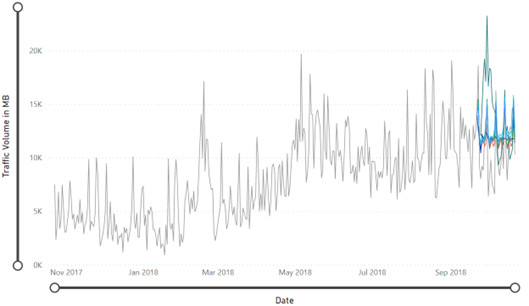

What the dashboard file says about the page in this screenshot:
{"tool":"powerbi","page":{"name":"Figure 9 and 10. All Models","canvas":[1280,720],"ordinal":4},"visuals":[{"type":"lineChart","fields":{"Category":["All Models.Date"],"Y":["Sum(All Models.Traffic Volume in MB)"],"Series":["All Models.Label"]},"box":[16,0,1264,720],"z":0}]}

Visuals, with their boxes in screenshot pixels (x1, y1, x2, y2), scaled from the page's 1280x720 canvas onto the 529x306 screenshot:
lineChart - All Models.Date x Sum(All Models.Traffic Volume in MB): region(7, 0, 528, 305)
